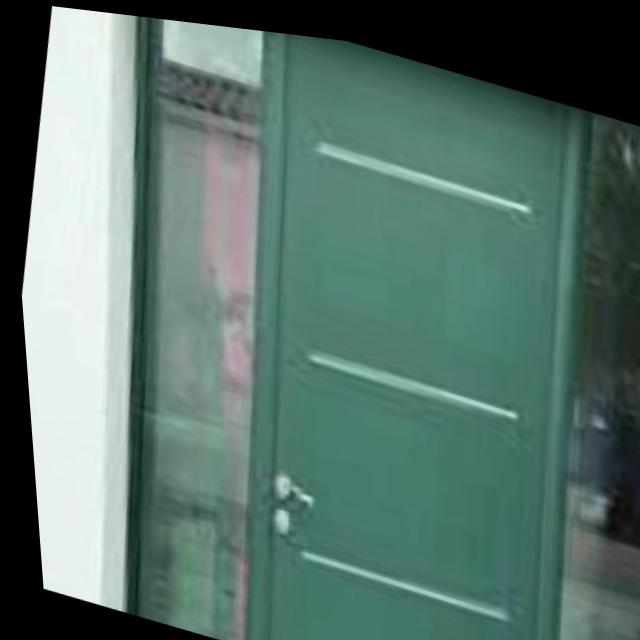door_handle: (247, 458, 314, 516)
